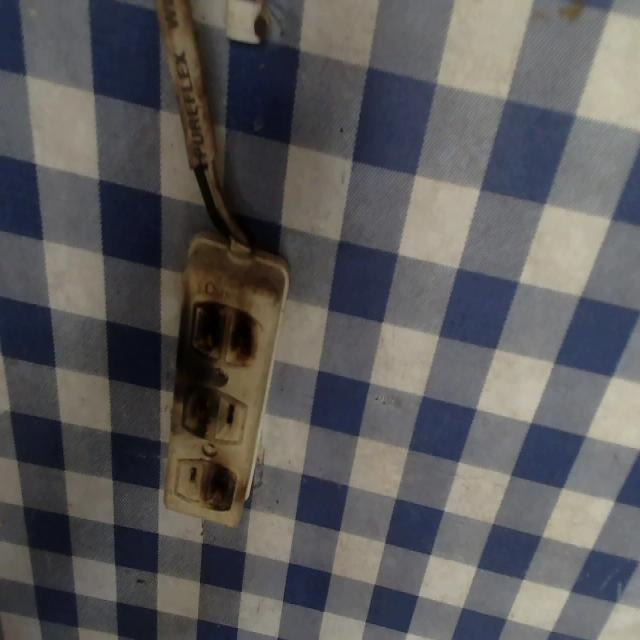-: (187, 296, 262, 368), (181, 378, 216, 438), (202, 456, 237, 511)
